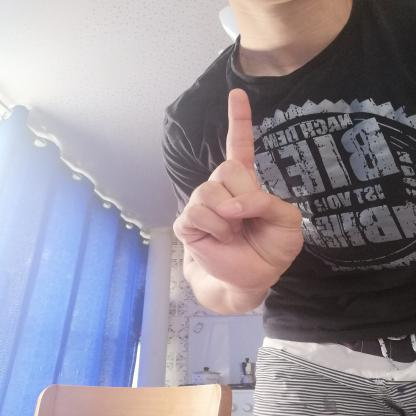BAA: (151, 78, 328, 297)
